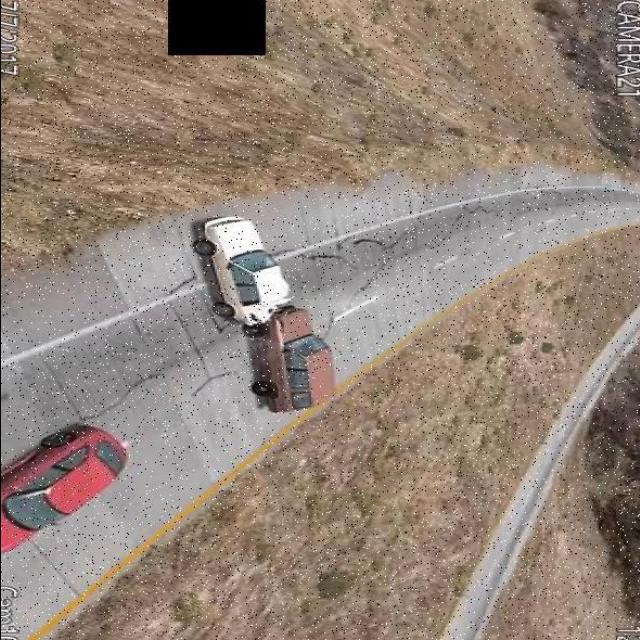accident: (186, 212, 340, 416)
